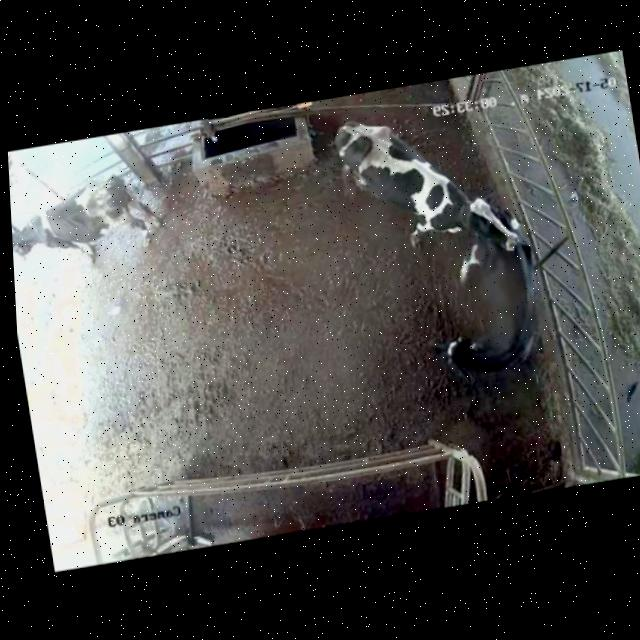propping: (435, 169, 537, 282)
stand: (8, 154, 169, 299), (425, 238, 558, 394)
